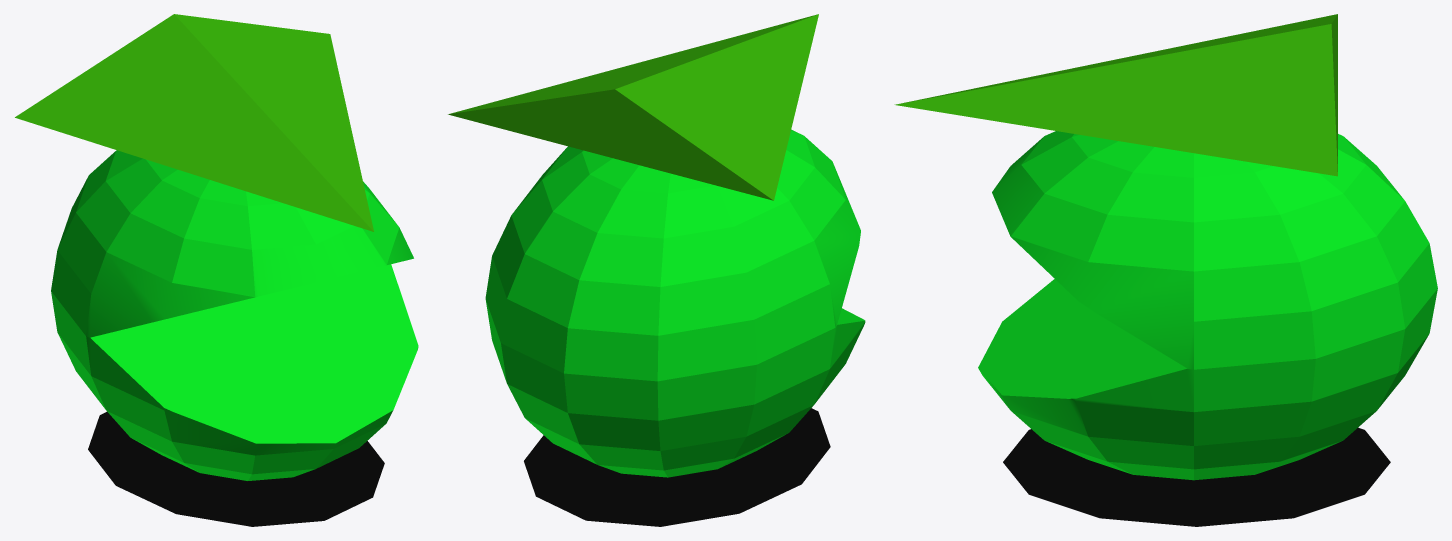
The model's file is enemyPacman2.fbx.
The picture shows the model from 3 angles, left to right: view 1: azimuth 30°, elevation 25°; view 2: azimuth 150°, elevation 25°; view 3: azimuth 270°, elevation 25°; orthographic projection. The views are drawn at different scales.
Parts seen in each view (by area): view 1: pSphere2, pPyramid1, pCylinder1; view 2: pSphere2, pPyramid1, pCylinder1; view 3: pSphere2, pPyramid1, pCylinder1.
Part boxes in pixels (<box>): pSphere2: <box>51,150,418,480</box>; pPyramid1: <box>15,14,373,231</box>; pCylinder1: <box>88,412,384,526</box>; pSphere2: <box>485,129,865,477</box>; pPyramid1: <box>448,14,818,200</box>; pCylinder1: <box>524,408,830,526</box>; pSphere2: <box>978,131,1437,480</box>; pPyramid1: <box>894,14,1337,176</box>; pCylinder1: <box>1003,427,1390,526</box>.
Bounding box in the file's own units: 0.625 × 0.7534 × 0.8469.
